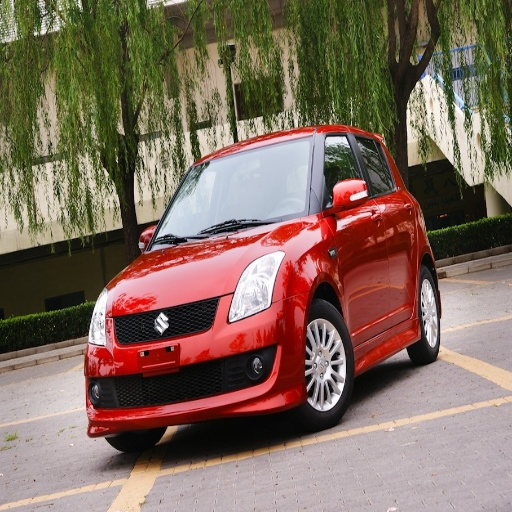front_bumper: (85, 293, 304, 430)
front_glass: (147, 138, 316, 247)
front_left_door: (323, 131, 393, 344)
